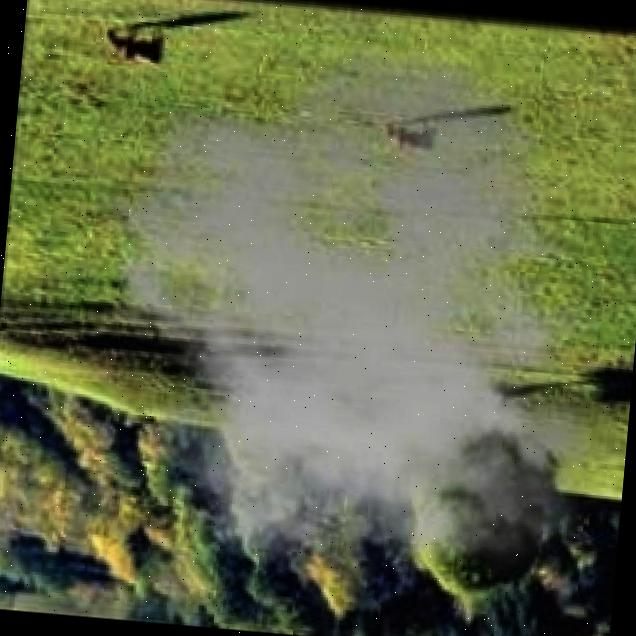smoke: (68, 24, 636, 611)
